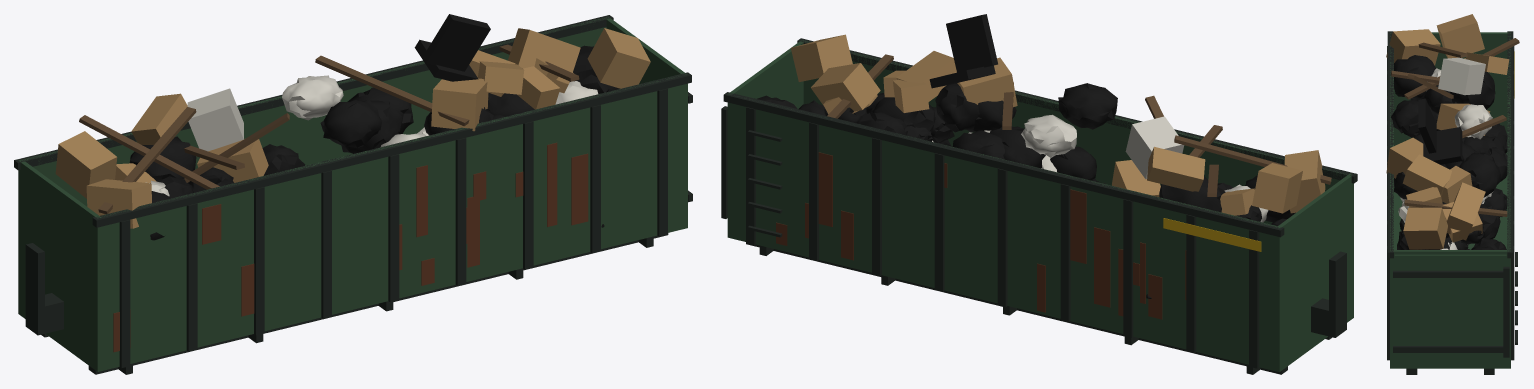
The model's file is SM_80s_Dumpster.glb.
The picture shows the model from 3 angles, left to right: view 1: azimuth 30°, elevation 25°; view 2: azimuth 150°, elevation 25°; view 3: azimuth 270°, elevation 25°; orthographic projection. The views are drawn at different scales.
Parts seen in each view (by area): view 1: SM_80s_Dumpster; view 2: SM_80s_Dumpster; view 3: SM_80s_Dumpster.
Boxes of the visible parts, bbox=[...] form: SM_80s_Dumpster: bbox=[14, 14, 692, 374]; SM_80s_Dumpster: bbox=[721, 14, 1357, 374]; SM_80s_Dumpster: bbox=[1386, 14, 1519, 374].
Bounding box in the file's own units: 7.16 × 2.87 × 1.74.
